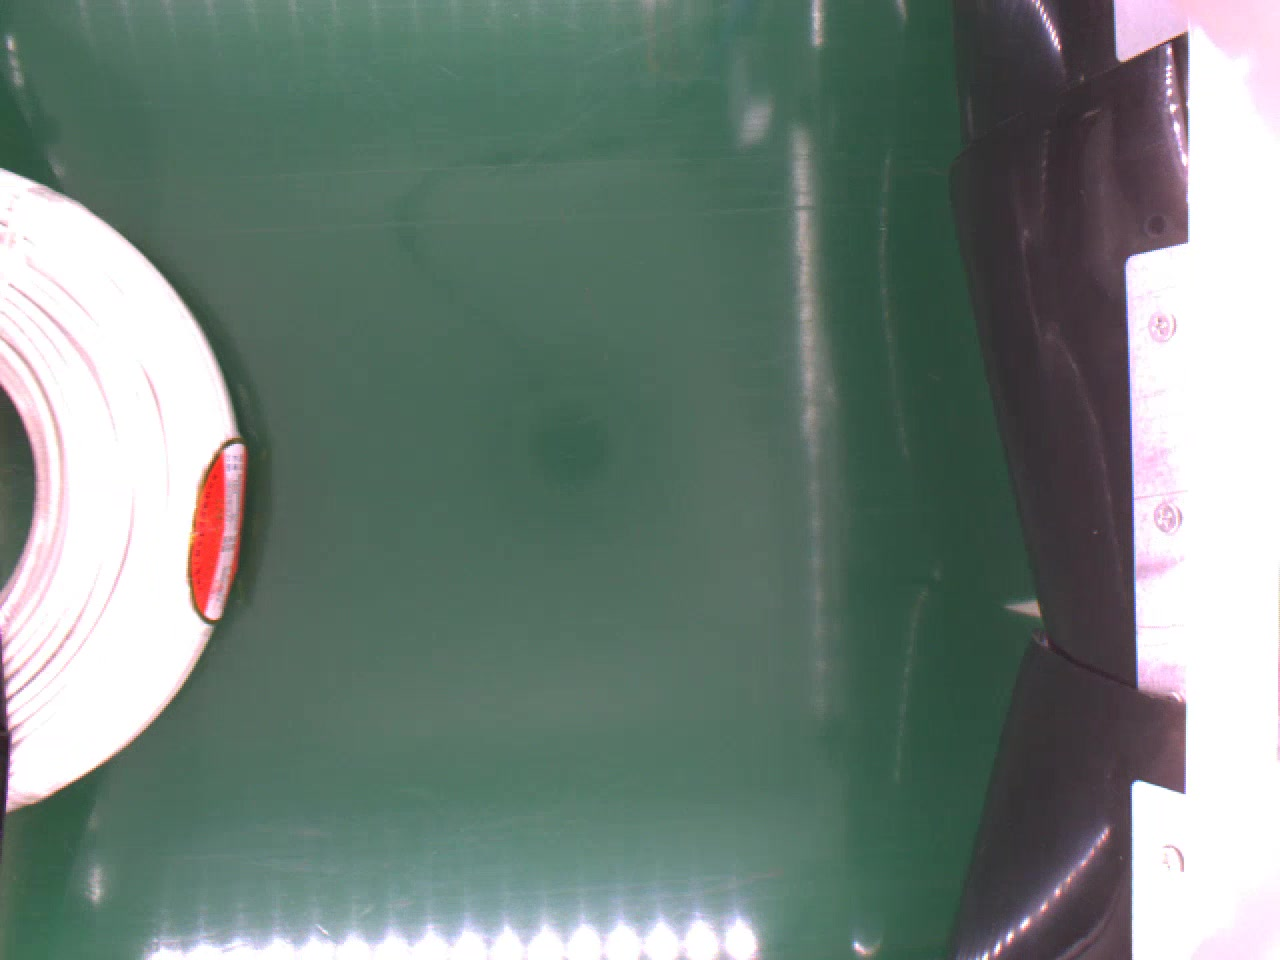white: (0, 164, 247, 817)
